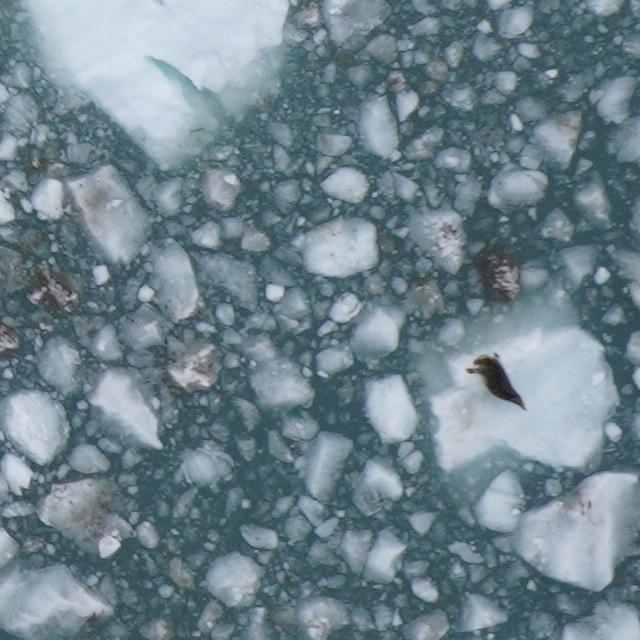seal: (461, 349, 529, 415)
